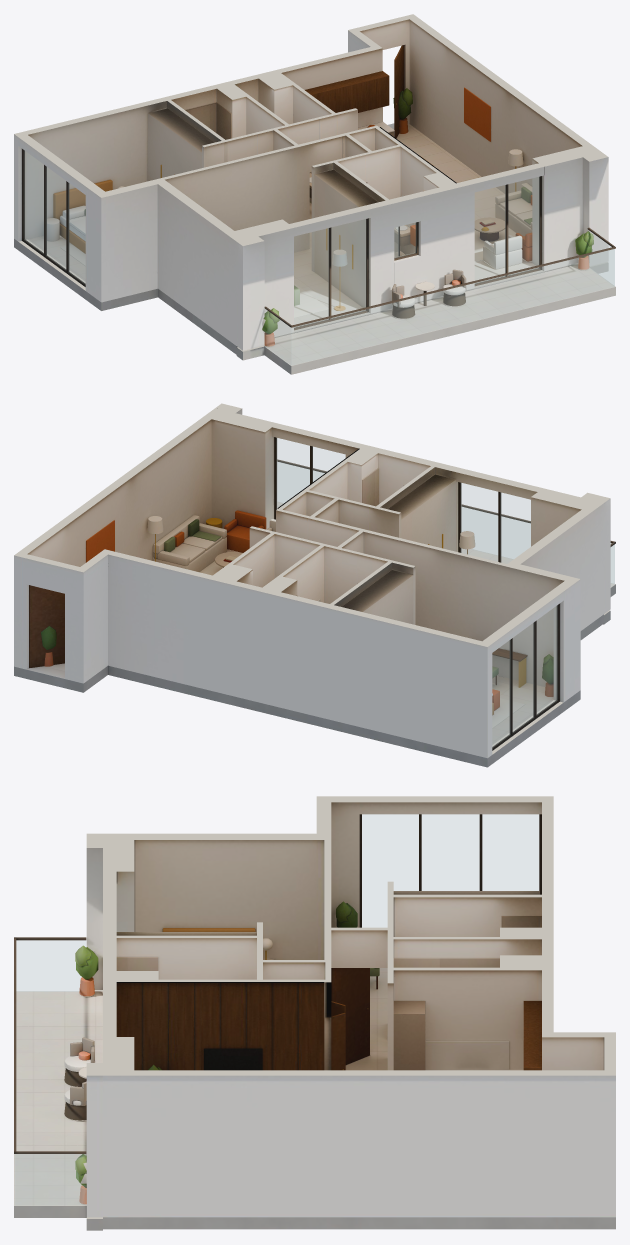
The model's file is unit409.glb.
3 renders of one model, top to bottom at view 1: azimuth 30°, elevation 25°; view 2: azimuth 150°, elevation 25°; view 3: azimuth 270°, elevation 25°, orthographic. The views are drawn at different scales.
Parts seen in each view (by area): view 1: walls_main, walls_cut, glass, slab_balcony, balustrade_glass, slab_interior, wardrobes, frames, living_furniture, kitchen, balcony_furniture, bed1_furniture (+6 smaller); view 2: walls_main, walls_cut, glass, slab_interior, wardrobes, living_furniture, balustrade_glass, frames, doors, plants, decor, bed1_furniture (+4 smaller); view 3: walls_main, walls_cut, wall_panels, slab_balcony, glass, slab_interior, balustrade_glass, kitchen, doors, balcony_furniture, frames, bathrooms (+2 smaller).
Boxes of the visible parts, x1=… form: walls_main: x1=14, y1=14, x2=601, y2=271; walls_cut: x1=18, y1=135, x2=608, y2=350; glass: x1=24, y1=150, x2=539, y2=327; slab_balcony: x1=236, y1=262, x2=615, y2=374; balustrade_glass: x1=265, y1=230, x2=614, y2=365; slab_interior: x1=14, y1=123, x2=578, y2=354; wardrobes: x1=148, y1=108, x2=377, y2=307; frames: x1=22, y1=149, x2=615, y2=330; living_furniture: x1=474, y1=183, x2=532, y2=269; kitchen: x1=305, y1=71, x2=394, y2=136; balcony_furniture: x1=262, y1=231, x2=593, y2=346; bed1_furniture: x1=47, y1=179, x2=112, y2=253; walls_main: x1=14, y1=408, x2=506, y2=758; walls_cut: x1=211, y1=403, x2=610, y2=702; glass: x1=276, y1=438, x2=557, y2=747; slab_interior: x1=14, y1=549, x2=603, y2=767; wardrobes: x1=342, y1=474, x2=455, y2=624; living_furniture: x1=153, y1=510, x2=275, y2=571; balustrade_glass: x1=278, y1=462, x2=614, y2=586; frames: x1=274, y1=437, x2=615, y2=750; doors: x1=29, y1=585, x2=64, y2=667; plants: x1=41, y1=626, x2=553, y2=696; decor: x1=86, y1=520, x2=236, y2=562; bed1_furniture: x1=492, y1=648, x2=527, y2=715; walls_main: x1=103, y1=796, x2=615, y2=1217; walls_cut: x1=86, y1=796, x2=541, y2=1217; wall_panels: x1=116, y1=982, x2=324, y2=1070; slab_balcony: x1=14, y1=990, x2=102, y2=1230; glass: x1=362, y1=814, x2=538, y2=927; slab_interior: x1=103, y1=968, x2=615, y2=1229; balustrade_glass: x1=15, y1=940, x2=85, y2=1205; kitchen: x1=393, y1=1001, x2=541, y2=1070; doors: x1=331, y1=968, x2=369, y2=1070; balcony_furniture: x1=64, y1=945, x2=98, y2=1204; frames: x1=14, y1=814, x2=541, y2=1153; bathrooms: x1=116, y1=916, x2=541, y2=970.
Bounding box in the file's own units: 12.68 × 3.28 × 11.55.
4 materials, 3 textured.
